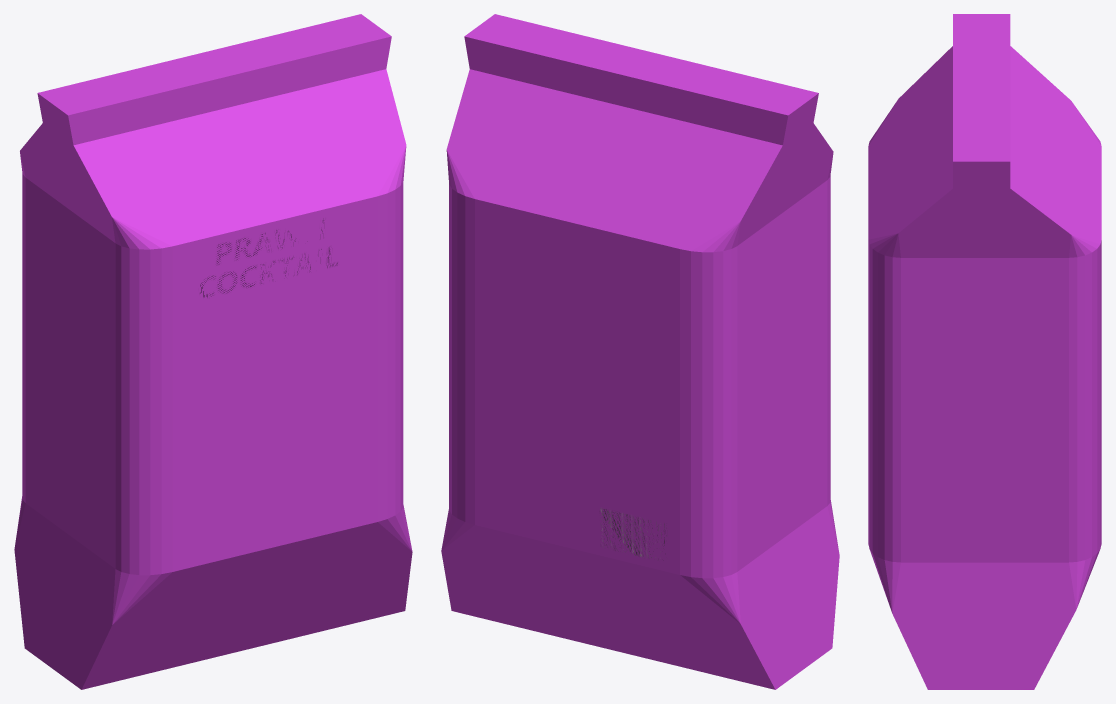
File: prawn_cocktail.glb
3 renders of one model, left to right at view 1: azimuth 30°, elevation 25°; view 2: azimuth 150°, elevation 25°; view 3: azimuth 270°, elevation 25°, orthographic. The views are drawn at different scales.
Visible parts, largest first — view 1: Cube; view 2: Cube; view 3: Cube.
Part boxes in pixels (x1=…): Cube: x1=14, y1=14, x2=412, y2=689; Cube: x1=441, y1=14, x2=839, y2=689; Cube: x1=868, y1=14, x2=1101, y2=689.
Size of the model in its own units: 0.3 by 0.5 by 0.2.
Materials: 1 (1 with a texture image).
